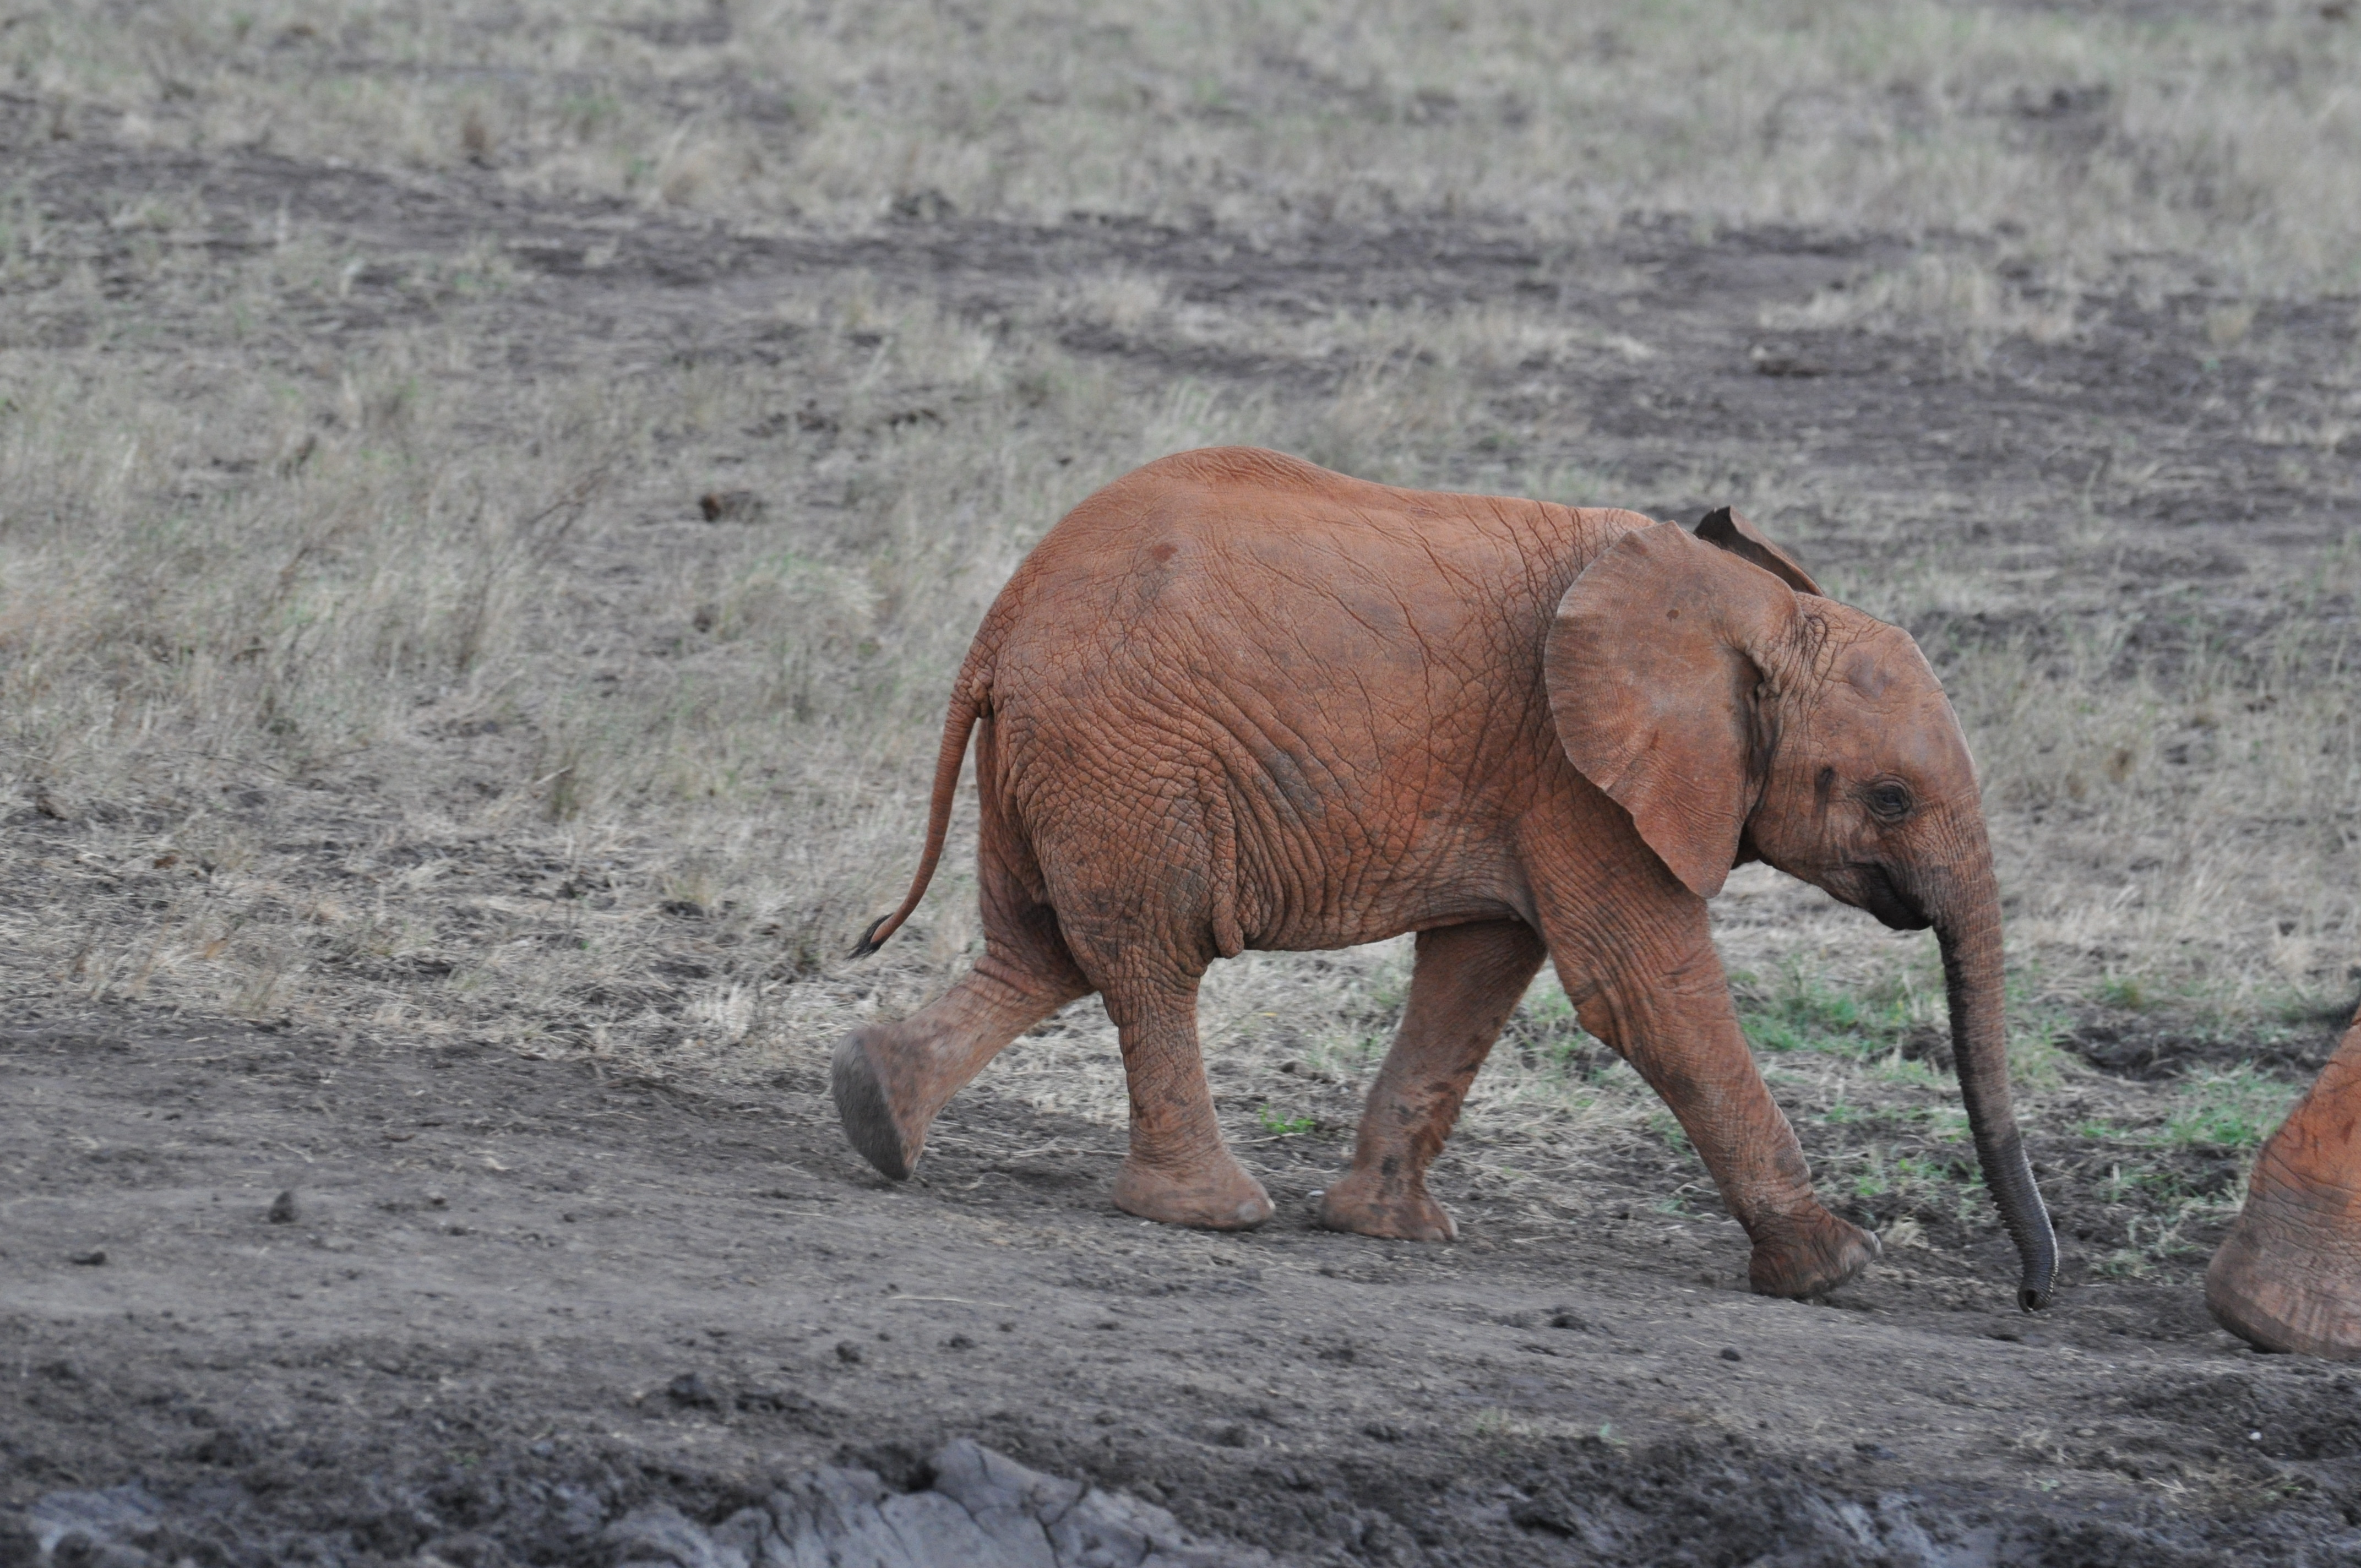elephant: (844, 441, 2070, 1328)
